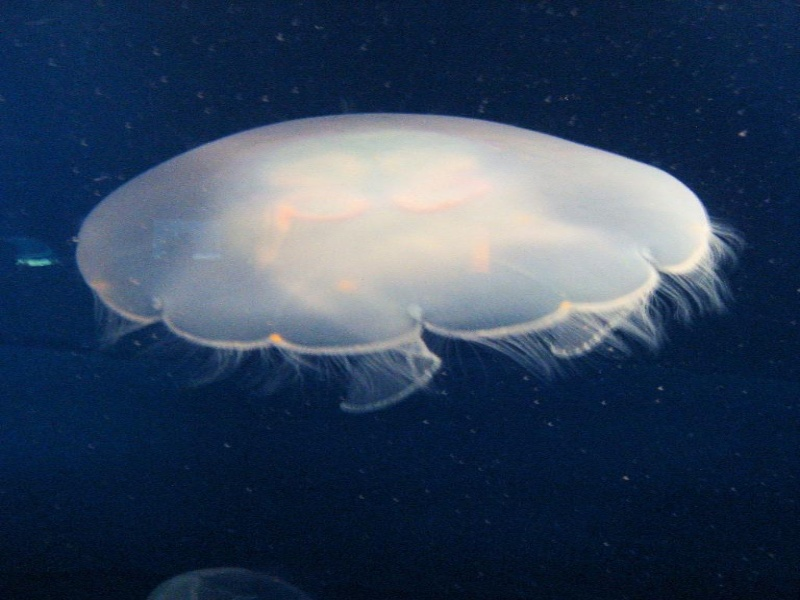Jellyfish: (69, 108, 749, 411)
